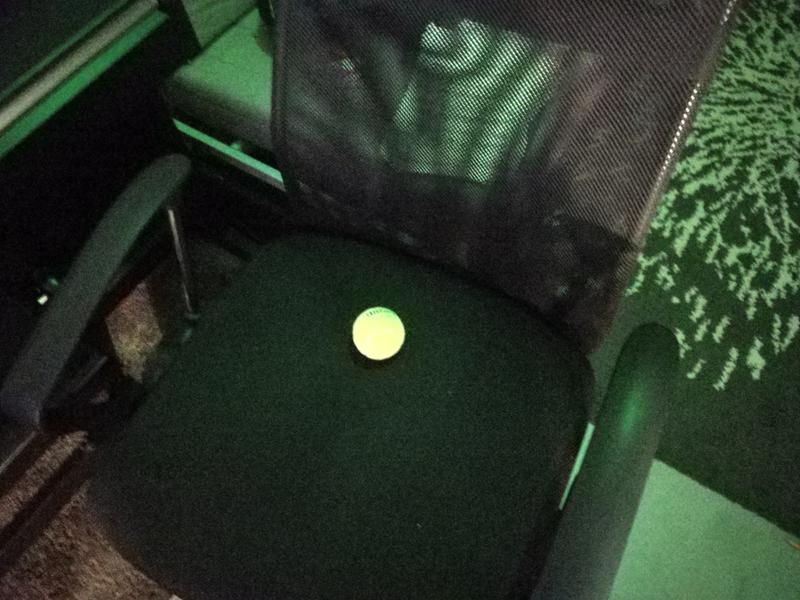Tennisball: (350, 304, 407, 364)
